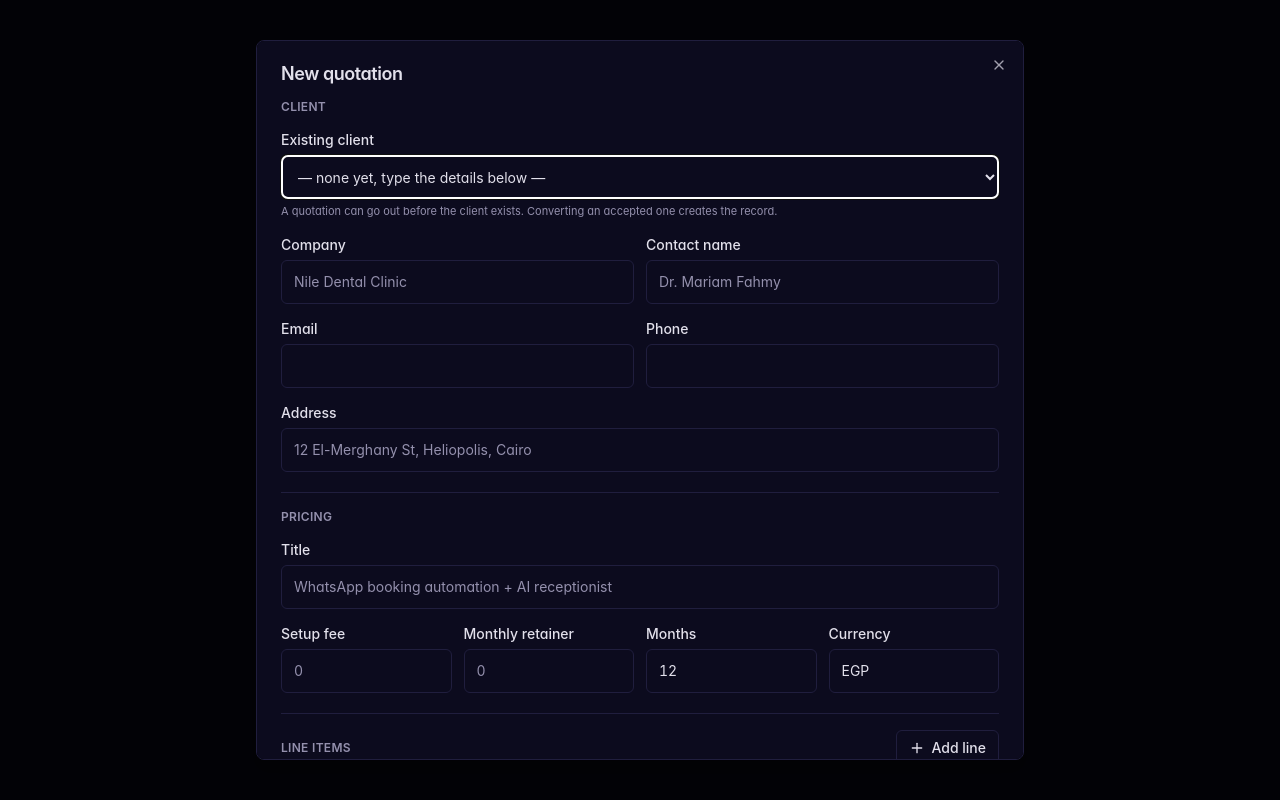
Scenario: DocumentForm — live total preview › shows the discount rate and charges tax on the discounted subtotal
Type "10000" into the field labelled "Setup fee".
click(366, 670); type("10000")  # box [281,648,452,692]
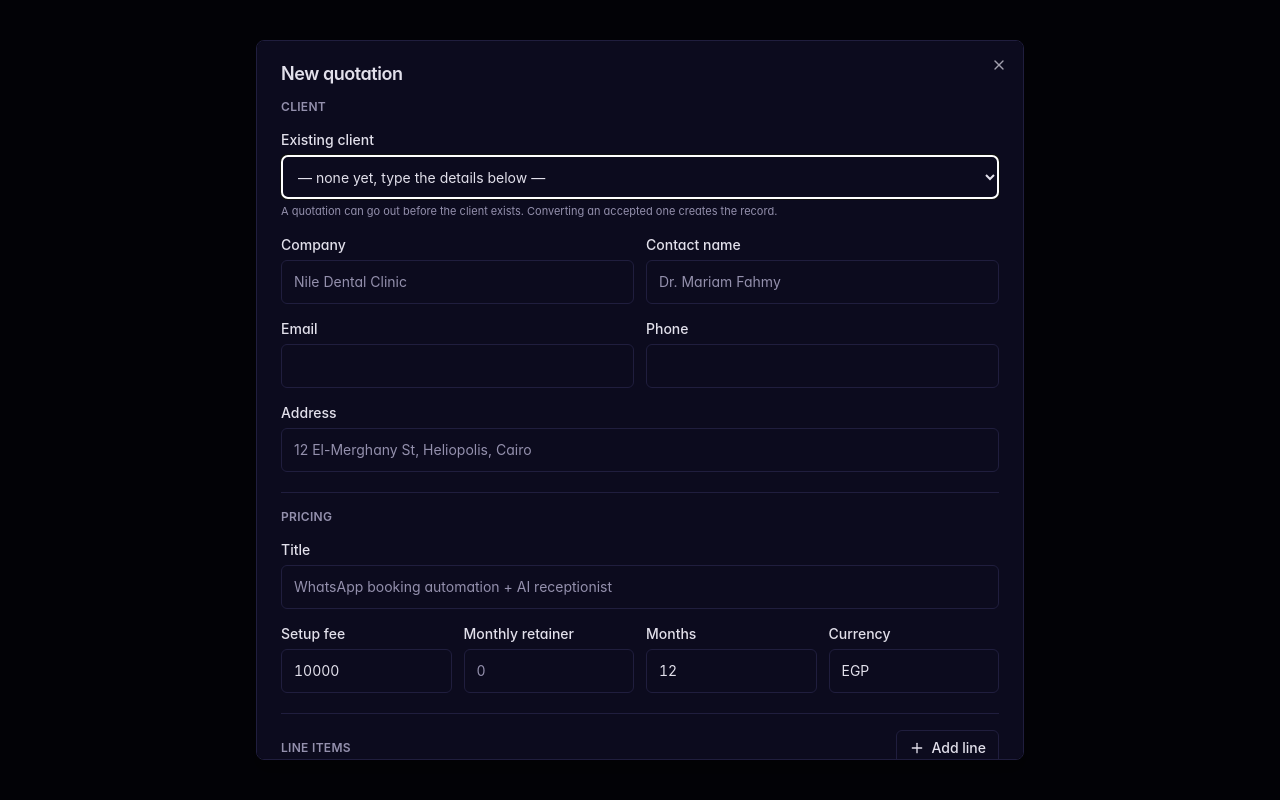
Replace the text in the field labelled "Months" with "0" at point(731, 670), box [646,648,816,692]
(page scrolled)
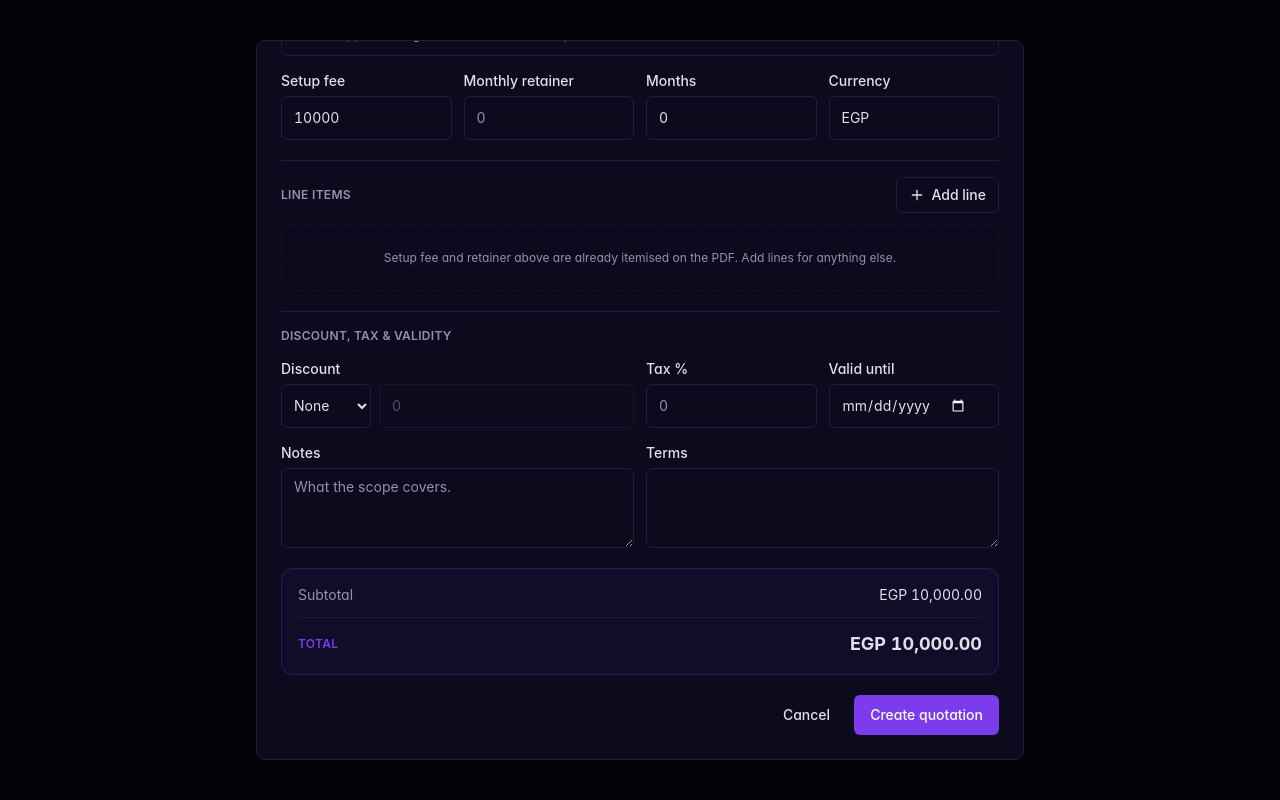
Select "Percent" in the dropdown labelled "Discount" at point(326, 406), box [281,384,371,428]
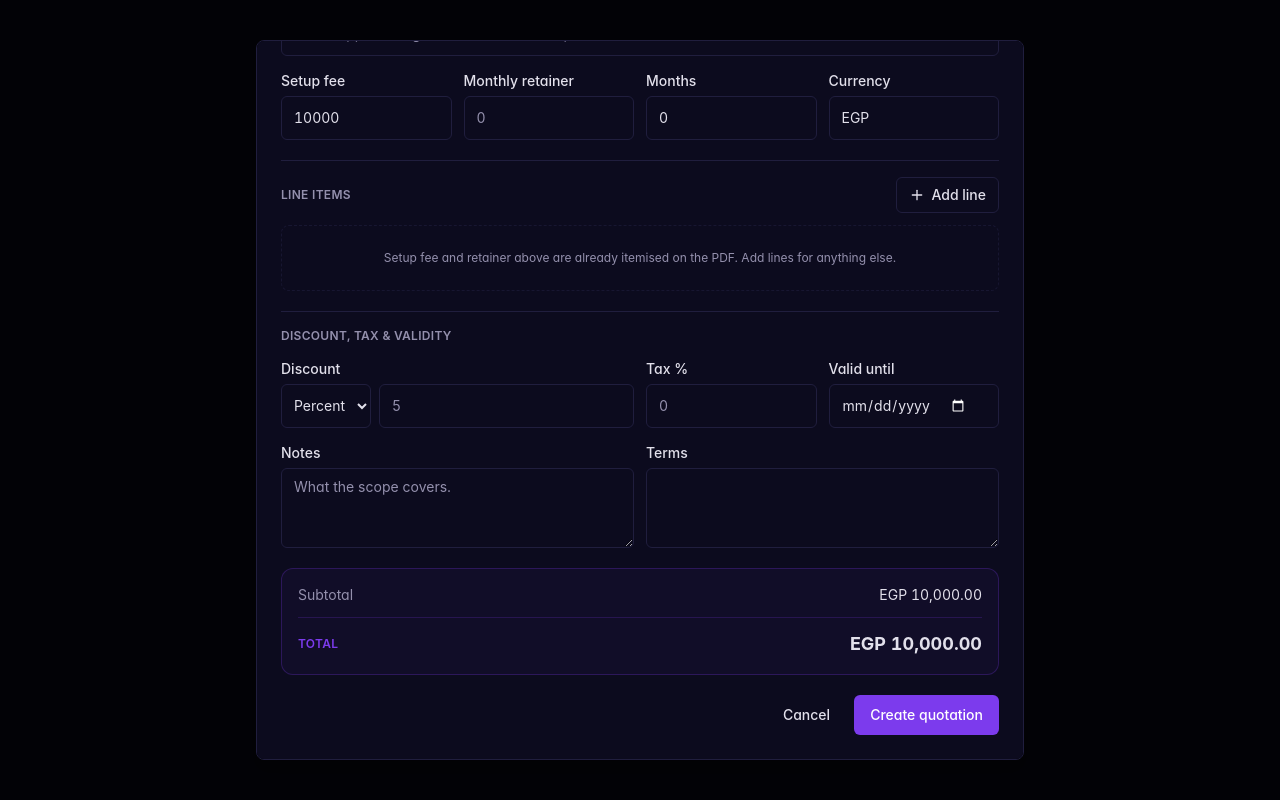
Type "10" into the field named "Discount value".
click(506, 406); type("10")  # box [379,384,634,428]
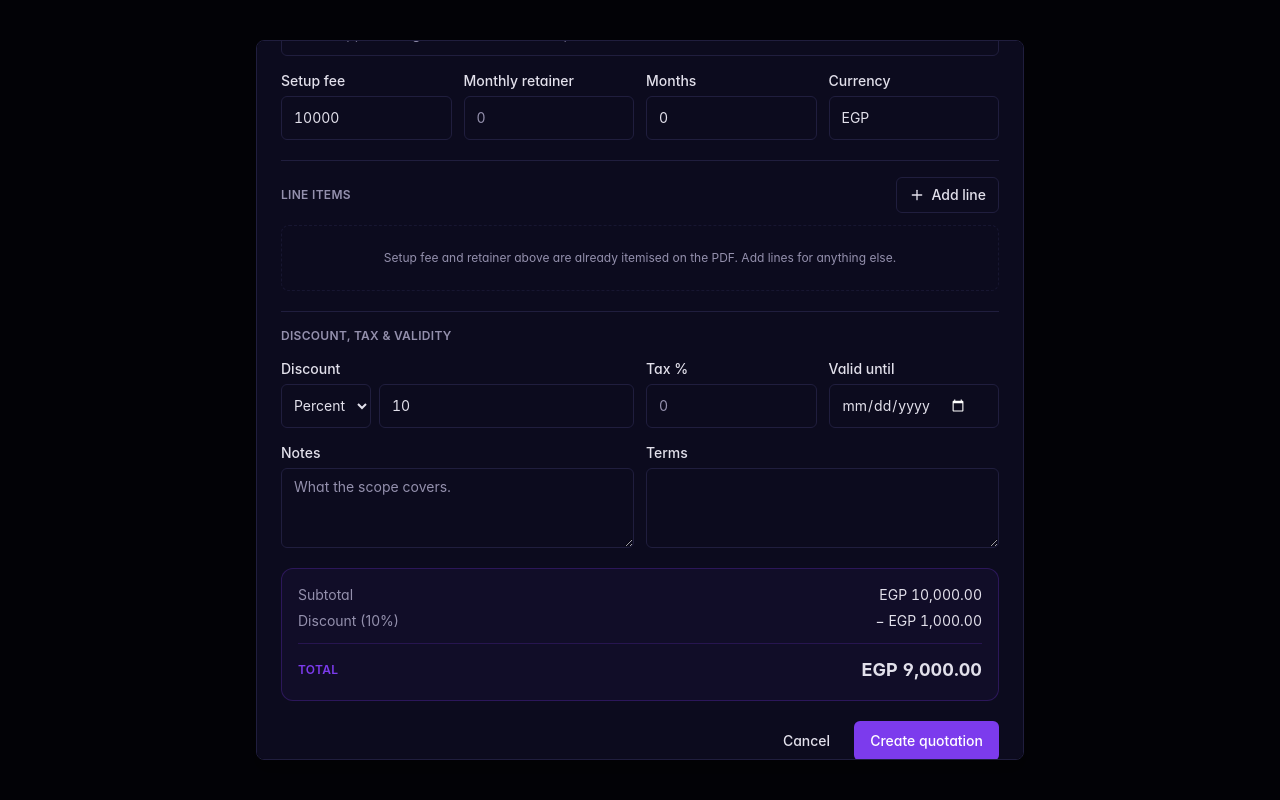
Type "14" into the field labelled "Tax %".
click(731, 406); type("14")  # box [646,384,816,428]
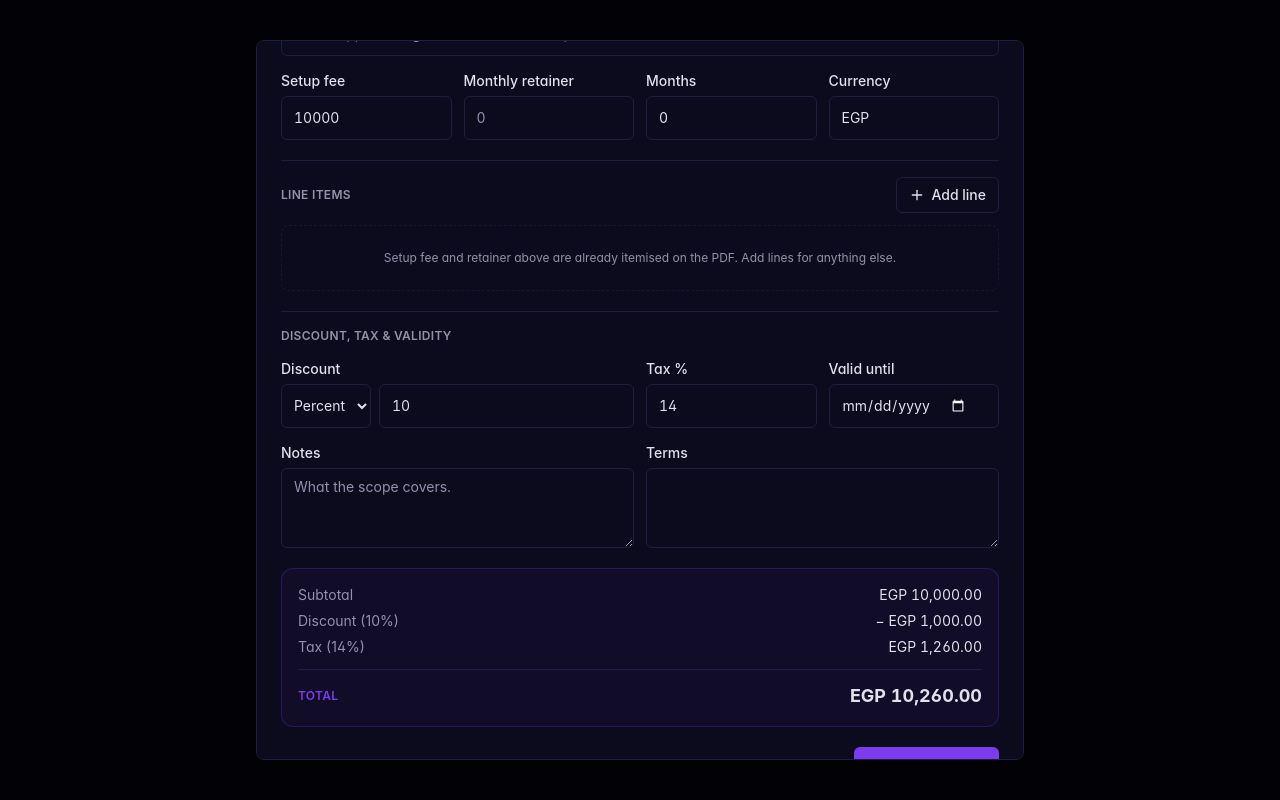
Now the text "Discount (10%)" is shown, box [298,610,399,630]
Now the text "− EGP 1,000.00" is shown, box [876,610,982,630]
Now the text "Tax (14%)" is shown, box [298,636,365,656]
